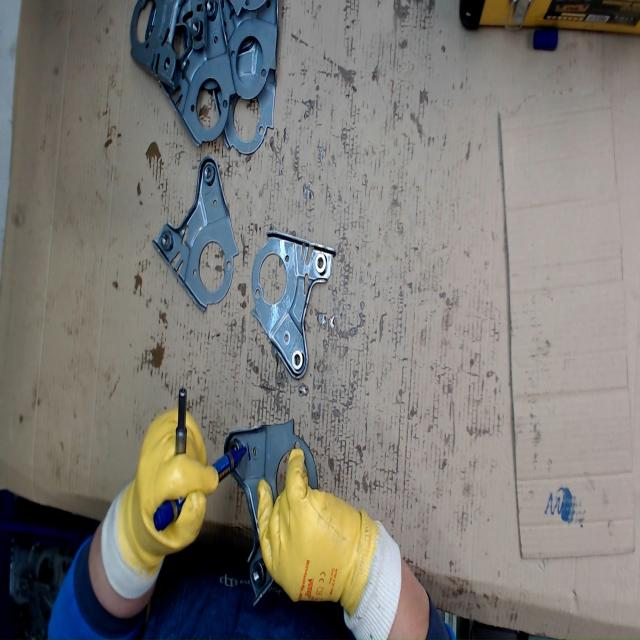hands: (256, 445, 372, 603), (119, 404, 221, 564)
